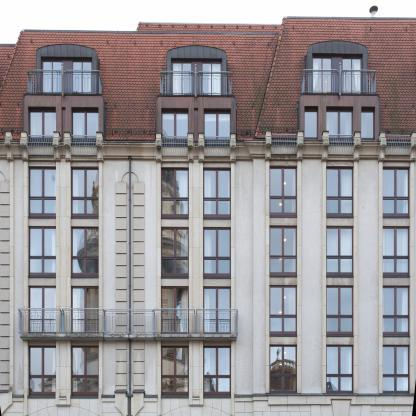Balcony: (19, 309, 238, 334), (304, 70, 377, 94), (27, 70, 99, 94), (160, 71, 232, 95)
Building Outline: (0, 6, 416, 416)
Door: (203, 286, 231, 334), (28, 286, 56, 334), (71, 286, 99, 334), (161, 286, 189, 334), (313, 58, 332, 93), (343, 58, 362, 93), (43, 59, 62, 94), (73, 59, 92, 94), (173, 61, 192, 95), (203, 61, 222, 95)
Facade: (1, 5, 416, 416)
Floor: (1, 101, 416, 161), (1, 286, 416, 340), (1, 226, 416, 280), (1, 167, 416, 221), (1, 45, 416, 96), (1, 345, 416, 395)
Floor Slab: (1, 95, 416, 101), (1, 395, 416, 401), (1, 339, 416, 345), (1, 280, 416, 286), (1, 221, 416, 227), (1, 161, 416, 167)
Pillar: (0, 180, 10, 390), (134, 183, 145, 334), (116, 183, 127, 334), (411, 162, 415, 393), (266, 162, 270, 393), (297, 162, 301, 393), (322, 162, 326, 393), (354, 162, 358, 393), (379, 162, 383, 393), (10, 162, 14, 391), (24, 162, 28, 334), (56, 162, 60, 334), (67, 162, 71, 334), (99, 162, 103, 334), (157, 162, 161, 334), (189, 162, 193, 334), (199, 162, 203, 334), (231, 162, 235, 334), (134, 340, 145, 390), (116, 340, 127, 390), (24, 341, 28, 416), (99, 341, 103, 416), (157, 341, 161, 416), (231, 341, 235, 416), (200, 341, 204, 406), (56, 341, 60, 406), (67, 341, 71, 406), (189, 341, 193, 406)
Roof: (0, 15, 416, 142)
Window: (28, 166, 56, 217), (71, 166, 99, 217), (161, 167, 189, 217), (203, 167, 231, 217), (326, 166, 354, 216), (28, 226, 56, 276), (71, 226, 99, 276), (28, 346, 56, 395), (71, 346, 99, 395), (161, 346, 189, 395), (203, 346, 231, 395), (161, 227, 189, 276), (203, 227, 231, 276), (383, 166, 410, 216), (270, 166, 297, 216), (383, 225, 410, 275), (270, 225, 297, 275), (326, 225, 353, 275), (383, 345, 410, 394), (270, 345, 297, 394), (326, 345, 353, 394), (383, 286, 410, 335), (270, 286, 297, 335), (326, 286, 353, 335), (161, 108, 189, 140), (327, 106, 354, 139), (71, 107, 99, 138), (28, 107, 56, 138), (204, 108, 231, 140), (361, 106, 375, 139), (305, 106, 318, 139)
